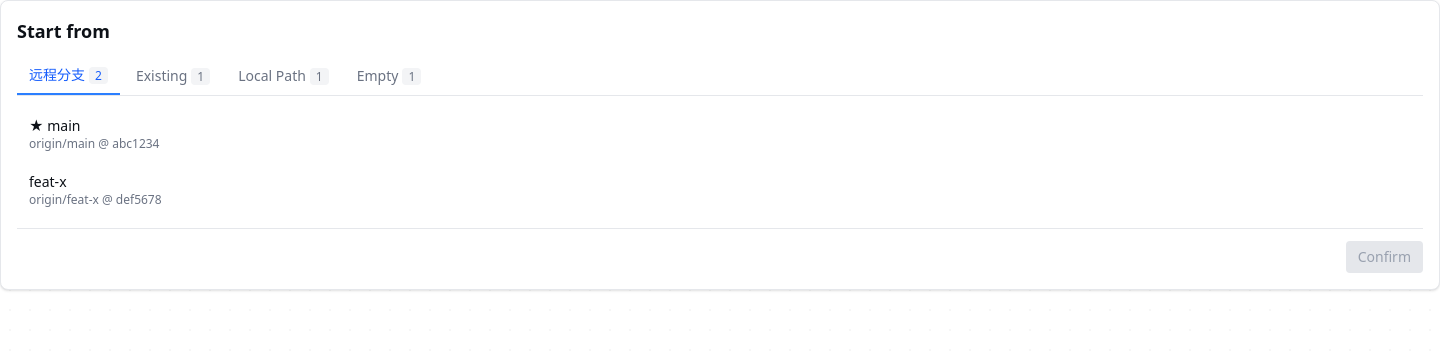
Test: StartFromPicker › switching tab clears selection
The image size is (1440, 352).
Click the option "★ main origin/main @ abc1234" at (94,134), box x1=29 y1=116 x2=160 y2=152
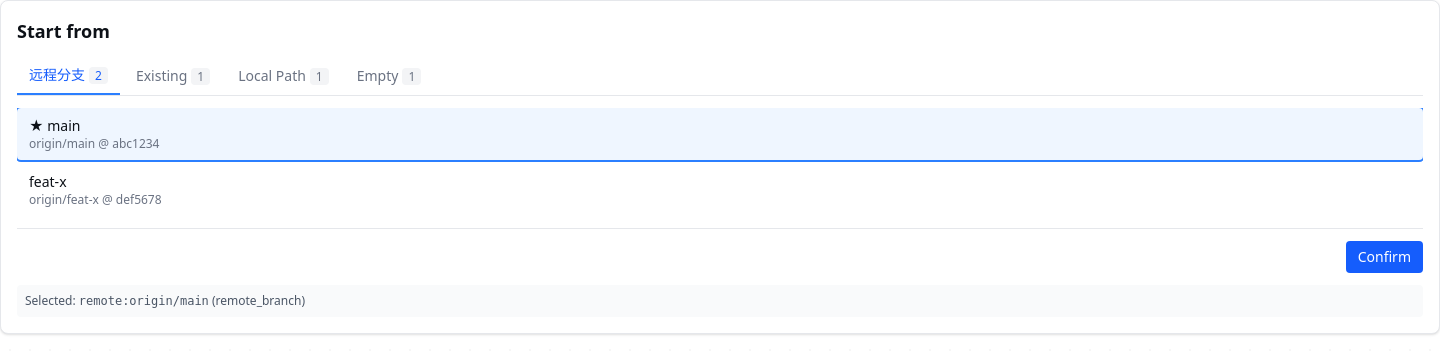
Expected: the element with test id "start-from-picker-selected" is shown, x1=17 y1=285 x2=1423 y2=317
Click the tab with test id "start-from-picker-tab-existing" at (173,76), box x1=124 y1=57 x2=222 y2=95
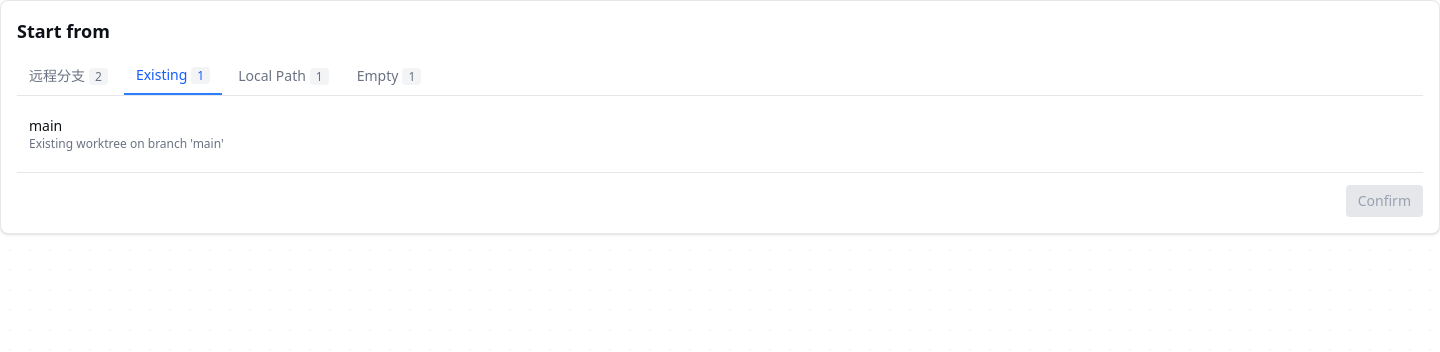
Expected: the element with test id "start-from-picker-selected" is gone
